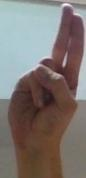U: (10, 0, 86, 176)
